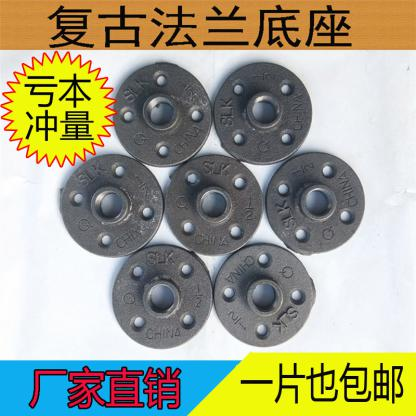FOD: (209, 240, 318, 347), (212, 57, 316, 168), (58, 152, 166, 258), (108, 243, 214, 351), (110, 60, 214, 169), (264, 149, 367, 256), (165, 152, 267, 258)
